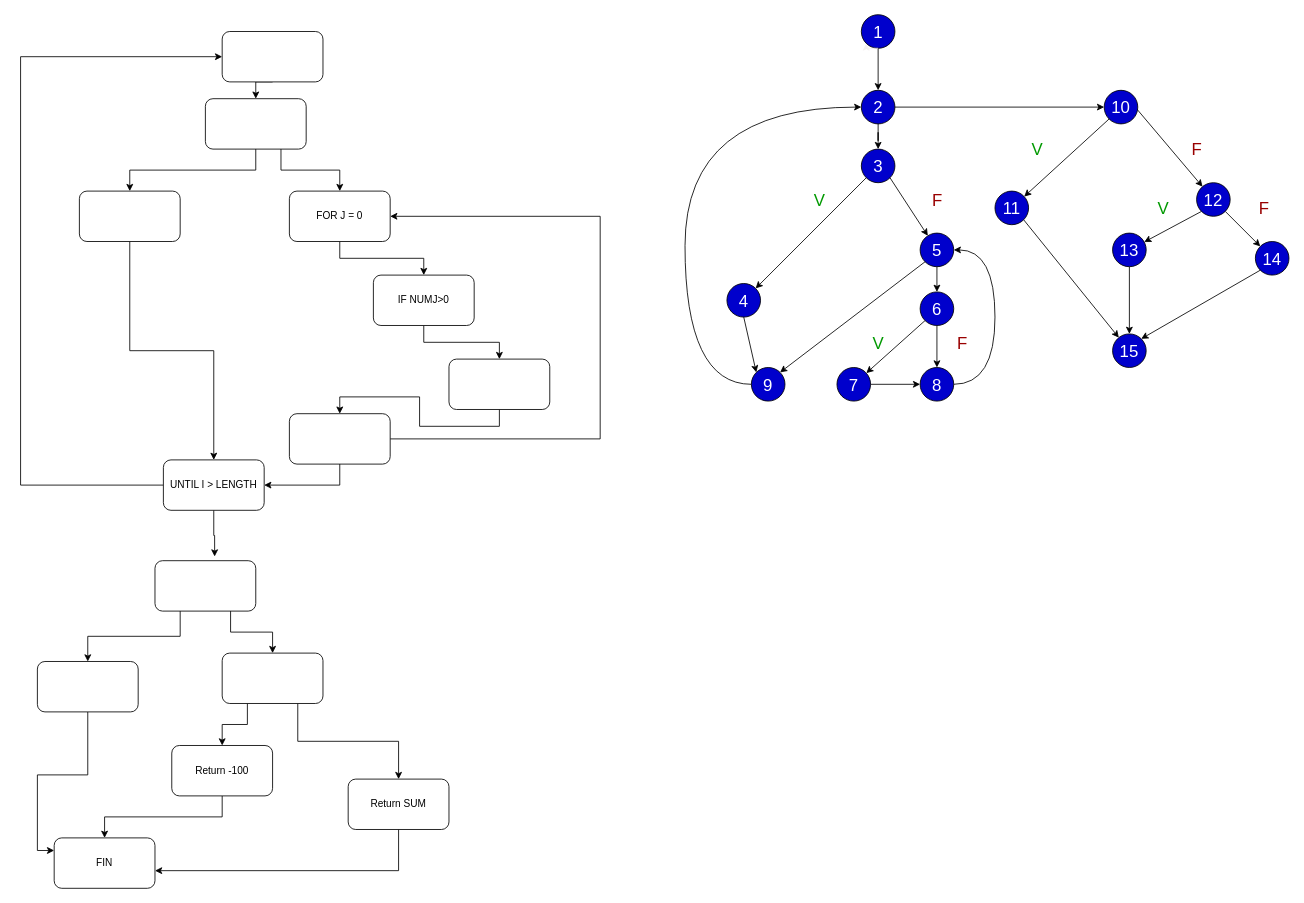
Image size: 1304x903. Some labels were removed from this diagram. Each missing label, with the box of its shape:
ELSEIF SUM < -100: (221, 652, 323, 704)
FOR i = 0: (221, 31, 323, 82)
IF NUMI>0: (205, 98, 306, 149)
IF SUM >100: (154, 560, 256, 611)
Numeros I ++: (79, 190, 180, 242)
Numeros J ++: (448, 358, 550, 410)
Return 100: (37, 661, 138, 712)
UNTIL J > LENGTH: (289, 413, 390, 464)
